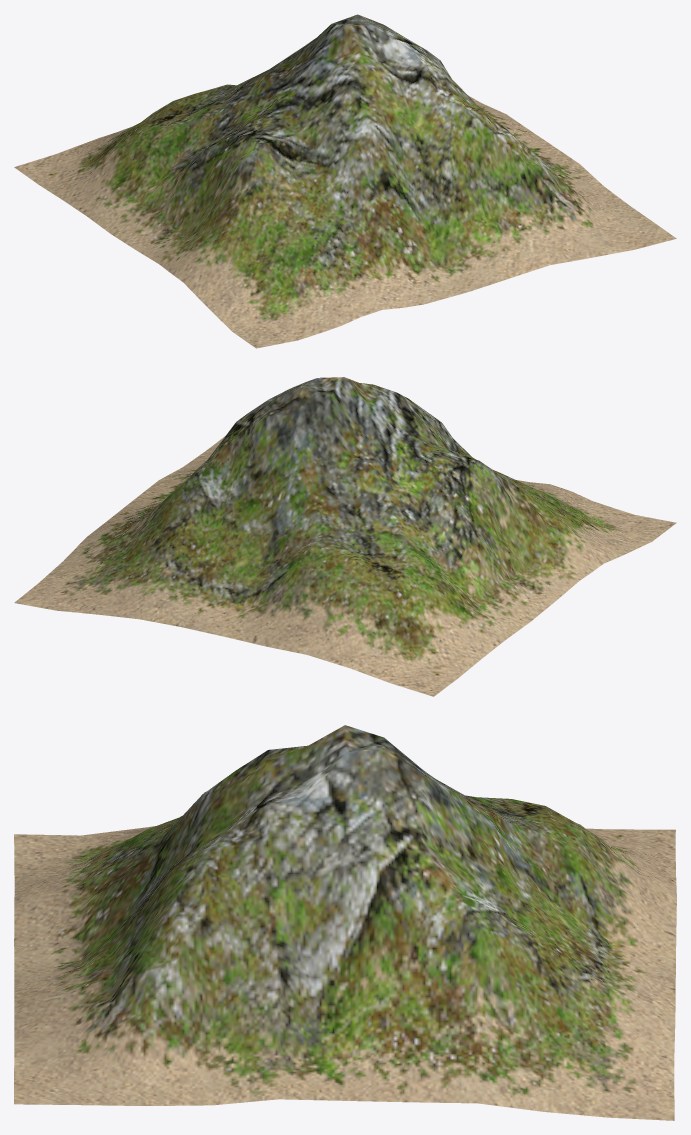
The model's file is island.fbx.
3 views of the same model, one above another, from view 1: azimuth 30°, elevation 25°; view 2: azimuth 150°, elevation 25°; view 3: azimuth 270°, elevation 25° (orthographic). The views are drawn at different scales.
Parts seen in each view (by area): view 1: pPlane1; view 2: pPlane1; view 3: pPlane1.
Part boxes in pixels (x1,y1,x2,y2): pPlane1: (14,14,676,348); pPlane1: (14,377,676,696); pPlane1: (14,725,676,1120).
Bounding box in the file's own units: 24.01 × 10.26 × 24.03.
